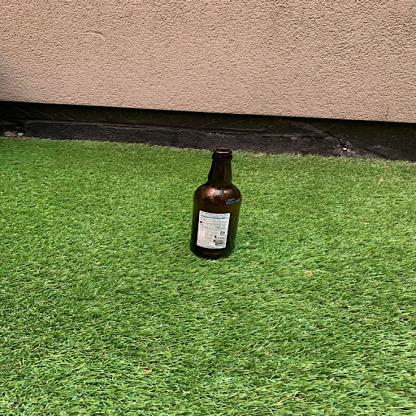trash: (187, 146, 241, 260)
